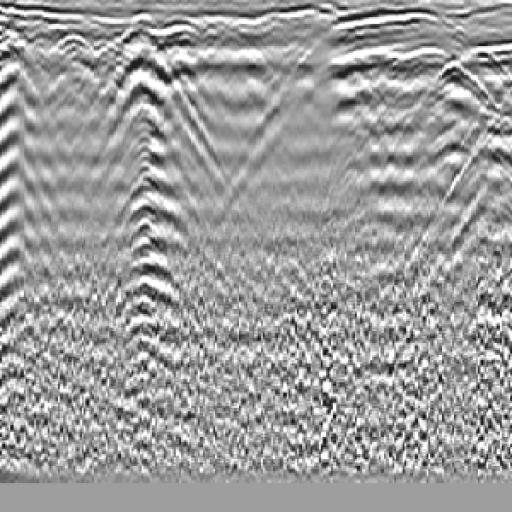non-metallic: (372, 37, 512, 301), (98, 20, 195, 344)
